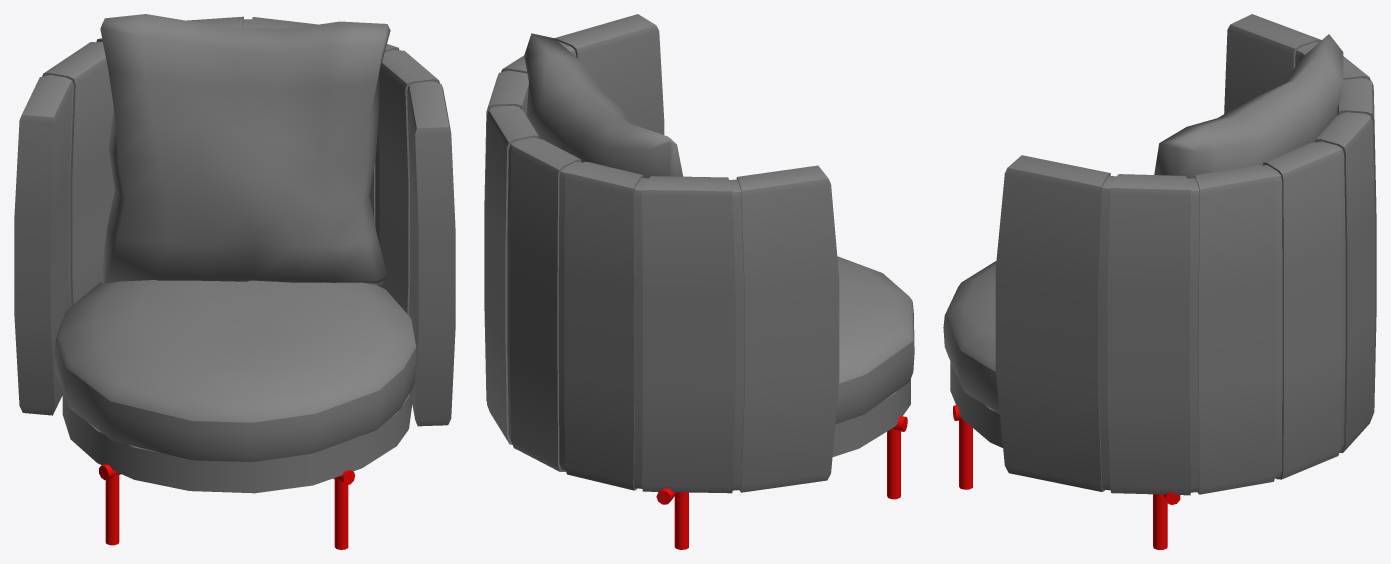
The model's file is Chair-2.FBX.
3 renders of one model, left to right at view 1: azimuth 30°, elevation 25°; view 2: azimuth 150°, elevation 25°; view 3: azimuth 270°, elevation 25°, orthographic. The views are drawn at different scales.
Visible parts, largest first — view 1: Chair-2; view 2: Chair-2; view 3: Chair-2.
Boxes of the visible parts, left/top/right/bottom form: Chair-2: left=14, top=14, right=455, bottom=549; Chair-2: left=484, top=14, right=914, bottom=549; Chair-2: left=943, top=14, right=1376, bottom=549.
Size of the model in its own units: 92.64 by 100 by 92.81.
